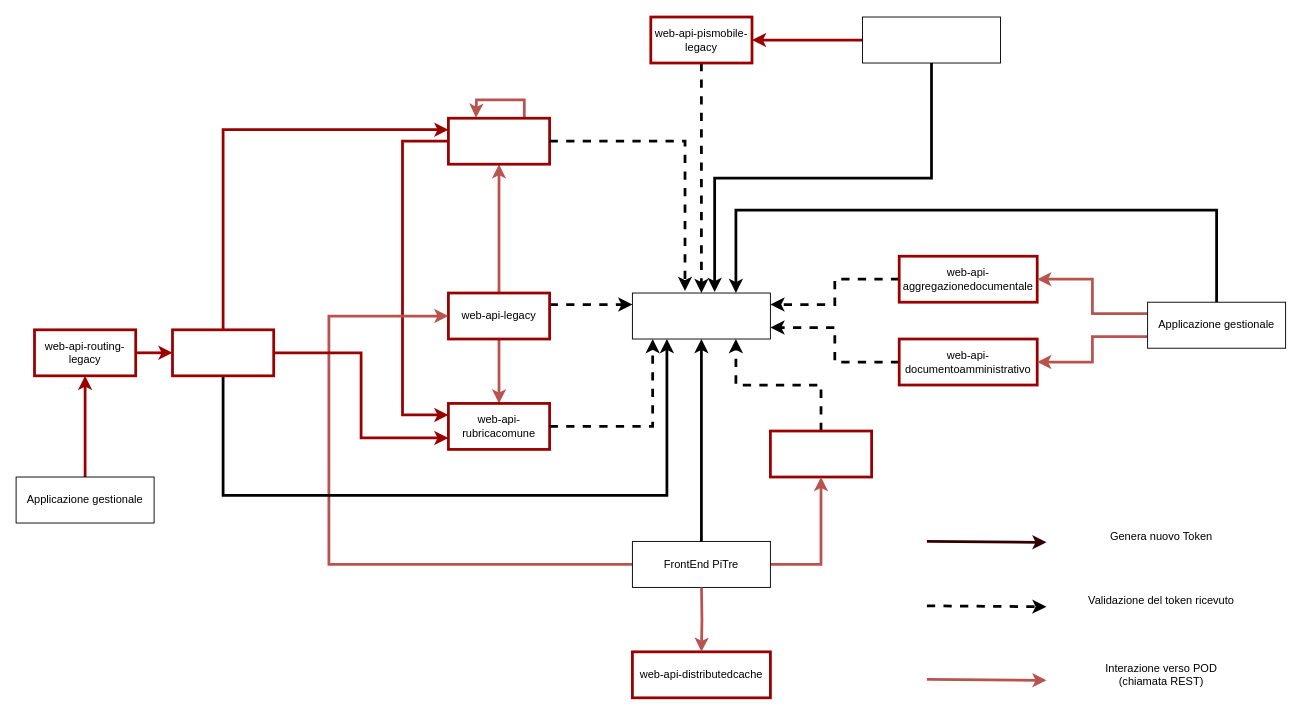
Image size: 1302x715. Some labels were removed from this diagram. The centre of each missing label's shape, as x and y in pixels:
"AAC" belongs at (700,315).
"App Mobile PiTre" belongs at (931,39).
"web-api-interoppitre" belongs at (499,140).
"web-api-pis-legacy" belongs at (223,352).
"web-api-search" belongs at (821,453).
